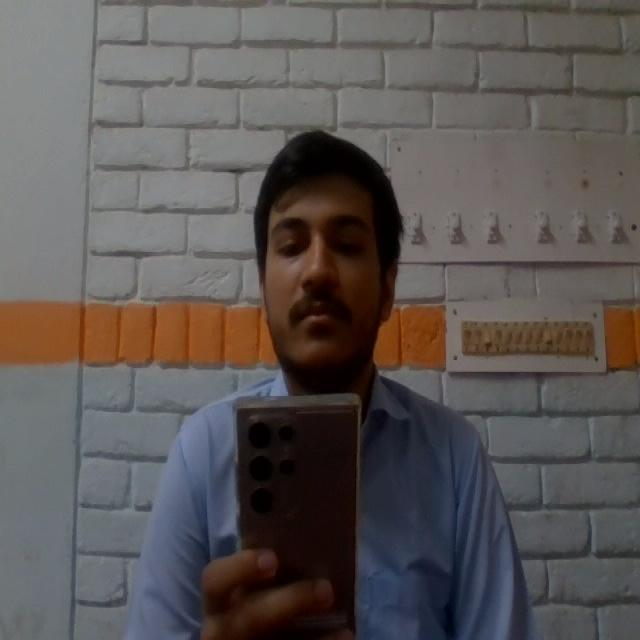phone: (231, 390, 362, 640)
using-phone: (117, 128, 543, 640)
